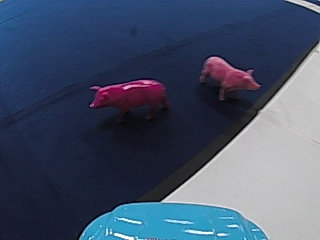pig: (85, 74, 170, 123), (199, 52, 259, 101)
